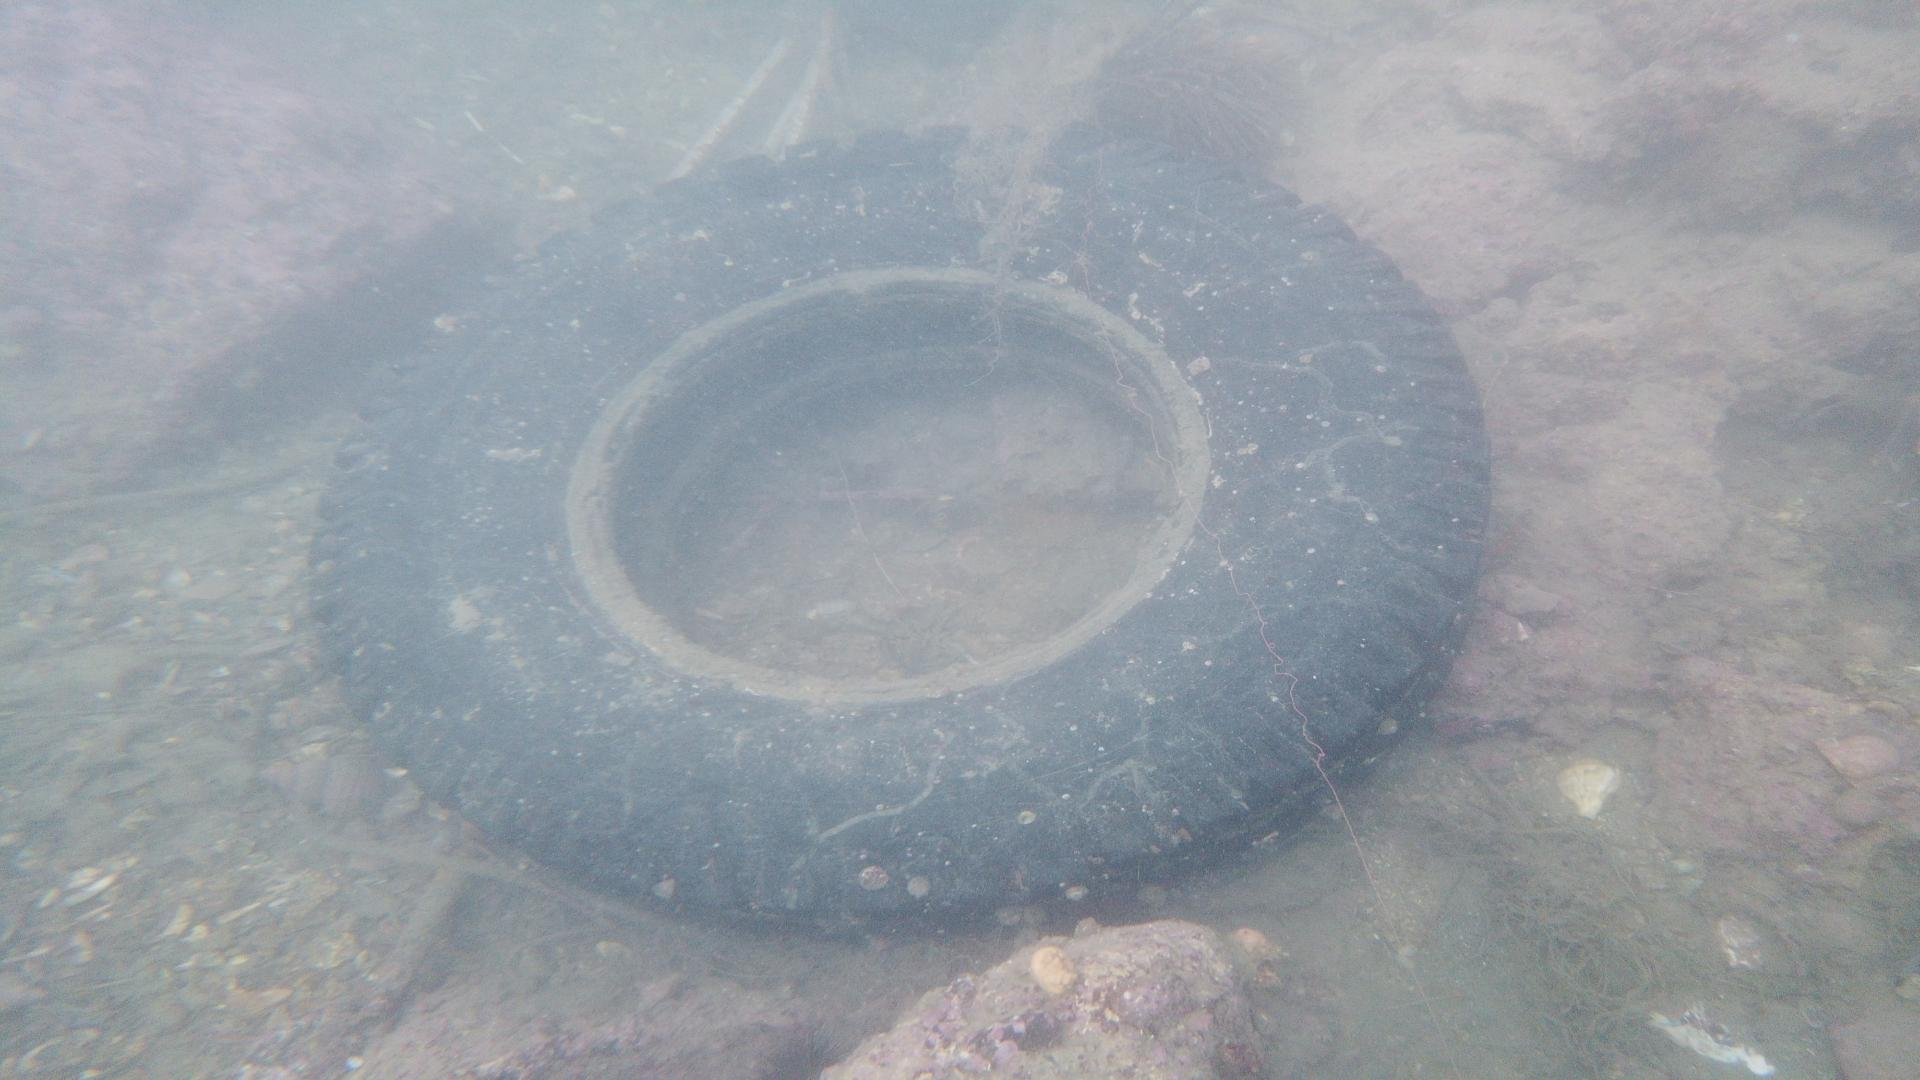tire: (306, 121, 1495, 938)
